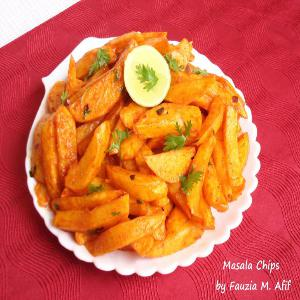fries: (26, 34, 253, 265)
